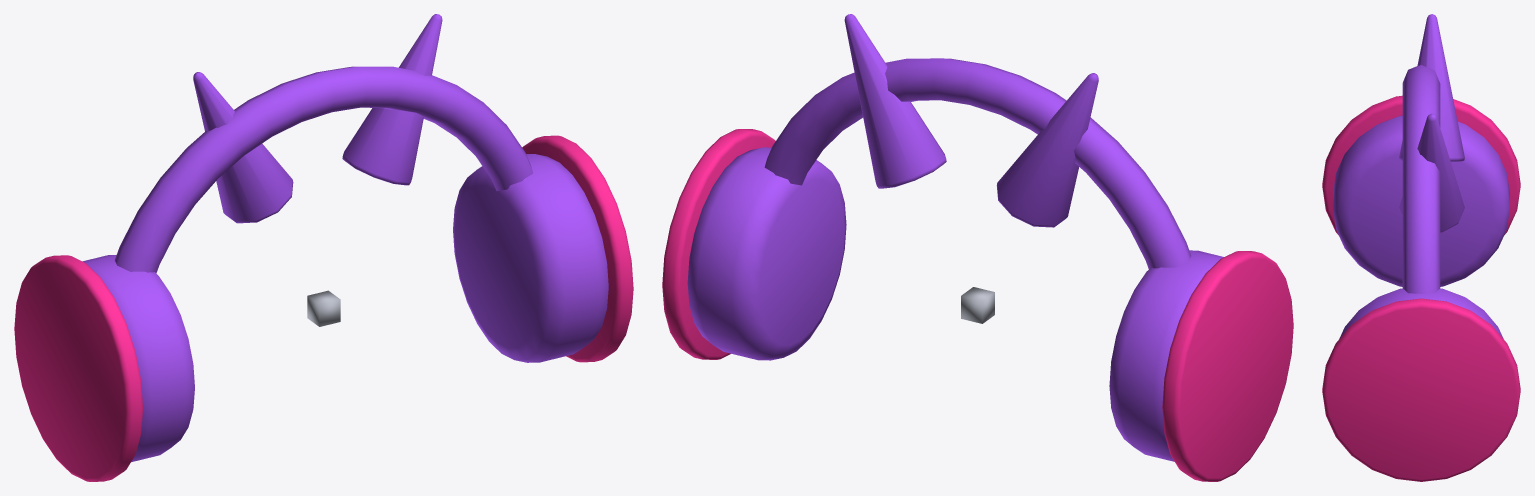
The model's file is Epic.fbx.
3 views of the same model, side by side, from view 1: azimuth 30°, elevation 25°; view 2: azimuth 150°, elevation 25°; view 3: azimuth 270°, elevation 25° (orthographic). The views are drawn at different scales.
Parts seen in each view (by area): view 1: Purplee, Pulse_Ring-1, Pulse_Ring1, KitOrigin; view 2: Purplee, Pulse_Ring-1, Pulse_Ring1, KitOrigin; view 3: Purplee, Pulse_Ring1, Pulse_Ring-1.
Boxes of the visible parts, <box> form: Purplee: <box>82,14,608,462</box>; Pulse_Ring-1: <box>14,255,143,481</box>; Pulse_Ring1: <box>522,135,633,362</box>; KitOrigin: <box>307,290,340,326</box>; Purplee: <box>687,14,1223,461</box>; Pulse_Ring-1: <box>1162,251,1293,481</box>; Pulse_Ring1: <box>662,129,775,359</box>; KitOrigin: <box>961,287,994,323</box>; Purplee: <box>1333,14,1509,338</box>; Pulse_Ring1: <box>1322,298,1520,481</box>; Pulse_Ring-1: <box>1322,95,1520,234</box>.
Size of the model in its own units: 2.38 by 1.64 by 0.94.
